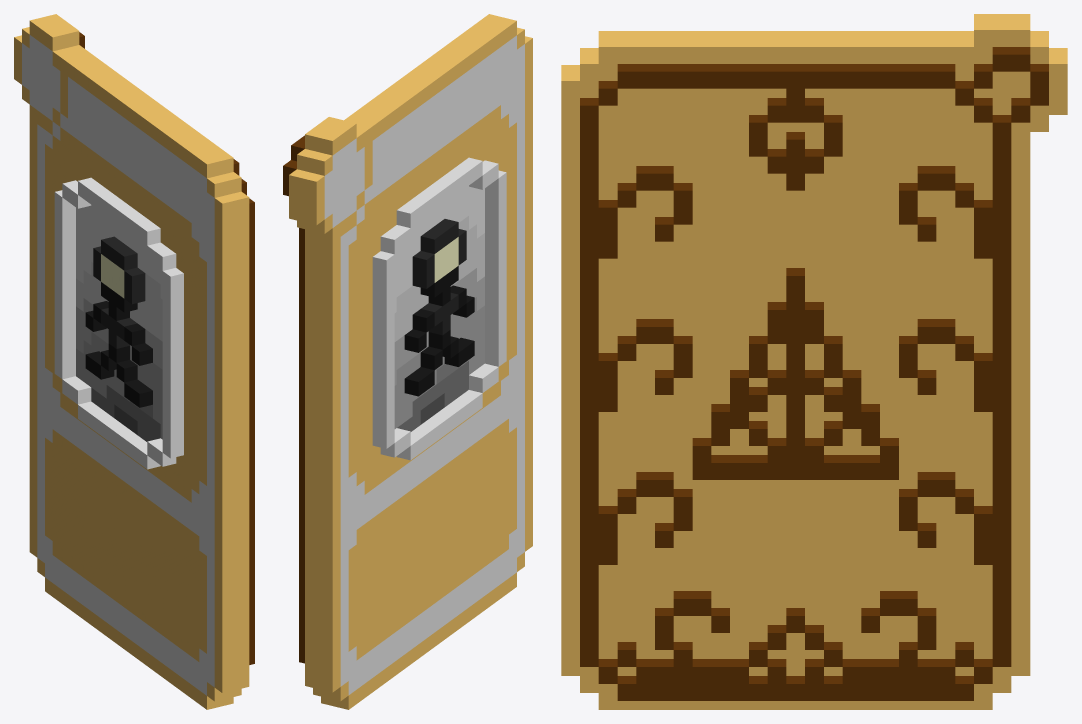
File: Protego2.obj
The picture shows the model from 3 angles, left to right: view 1: azimuth 30°, elevation 25°; view 2: azimuth 150°, elevation 25°; view 3: azimuth 270°, elevation 25°; orthographic projection. The views are drawn at different scales.
Bounding box in the file's own units: 0.4 × 4 × 2.7.
1 material, 1 textured.
